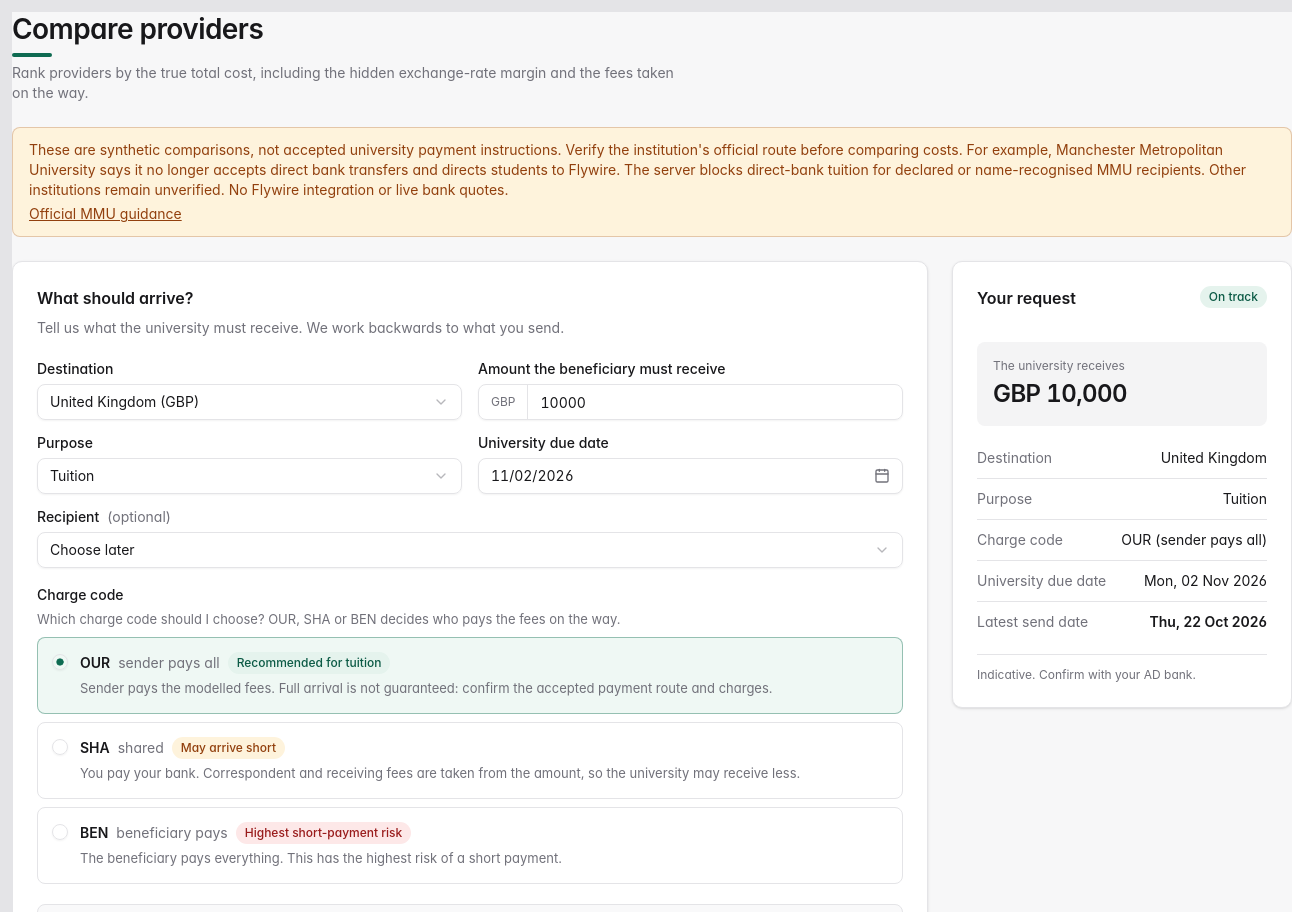
it: compare screen: the request › updates the summary as the form changes, and takes the send date from the engine
The image size is (1292, 912).
Expected: the text "GBP 10,000" is shown, x1=993 y1=379 x2=1127 y2=408
Expected: the text "On track" is shown, x1=1200 y1=286 x2=1267 y2=308
Replace the text in the field labelled "Amount the beneficiary must receive" with "12500.5" at (715, 402), box x1=528 y1=385 x2=902 y2=419
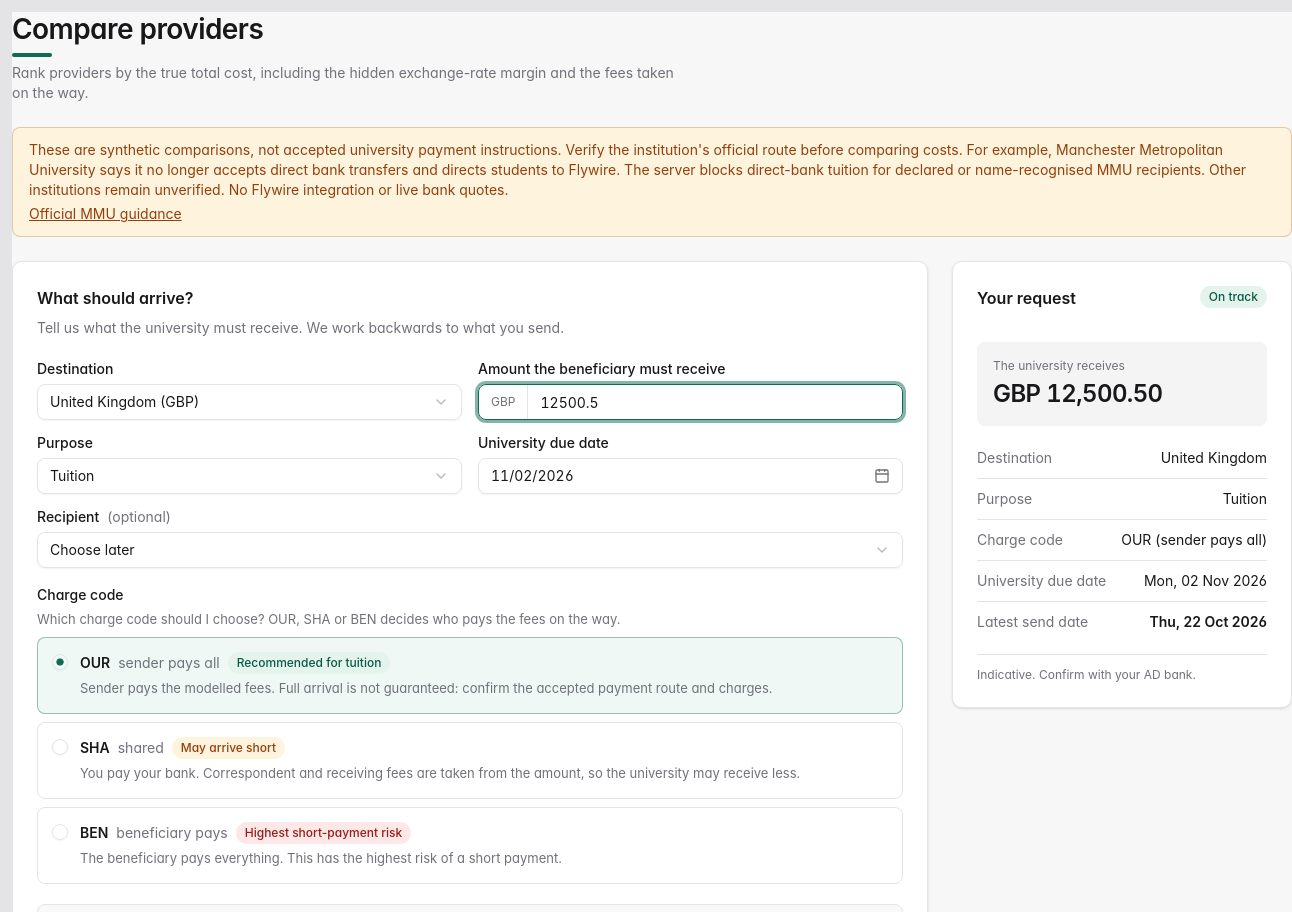
Result: the text "GBP 12,500.50" is shown at x1=993 y1=379 x2=1162 y2=408
Click the radio button named "SHA" in the row of "shared" at (60, 747), box x1=52 y1=739 x2=68 y2=755
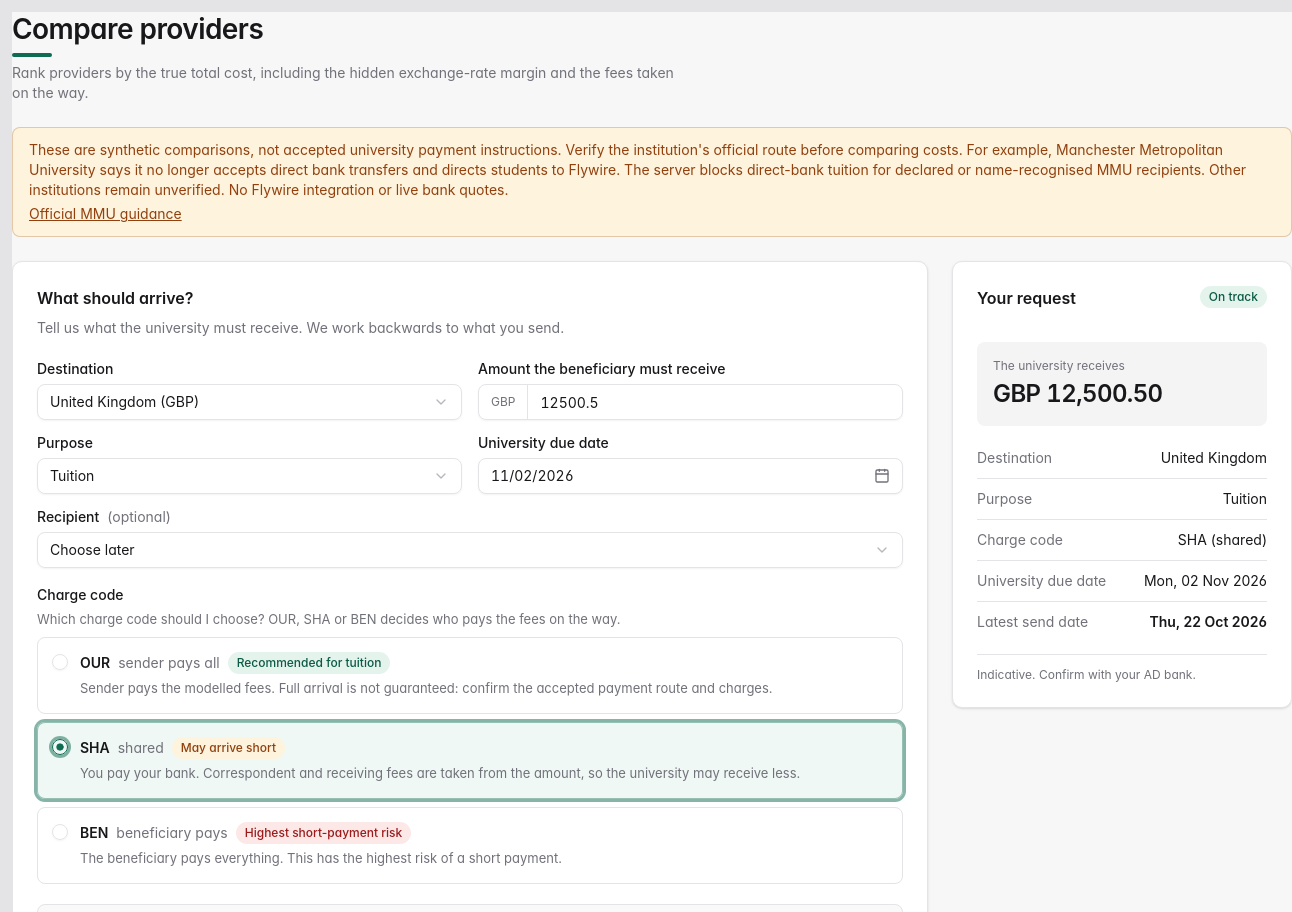
Result: the text "SHA (shared)" is shown at x1=1178 y1=530 x2=1267 y2=550
